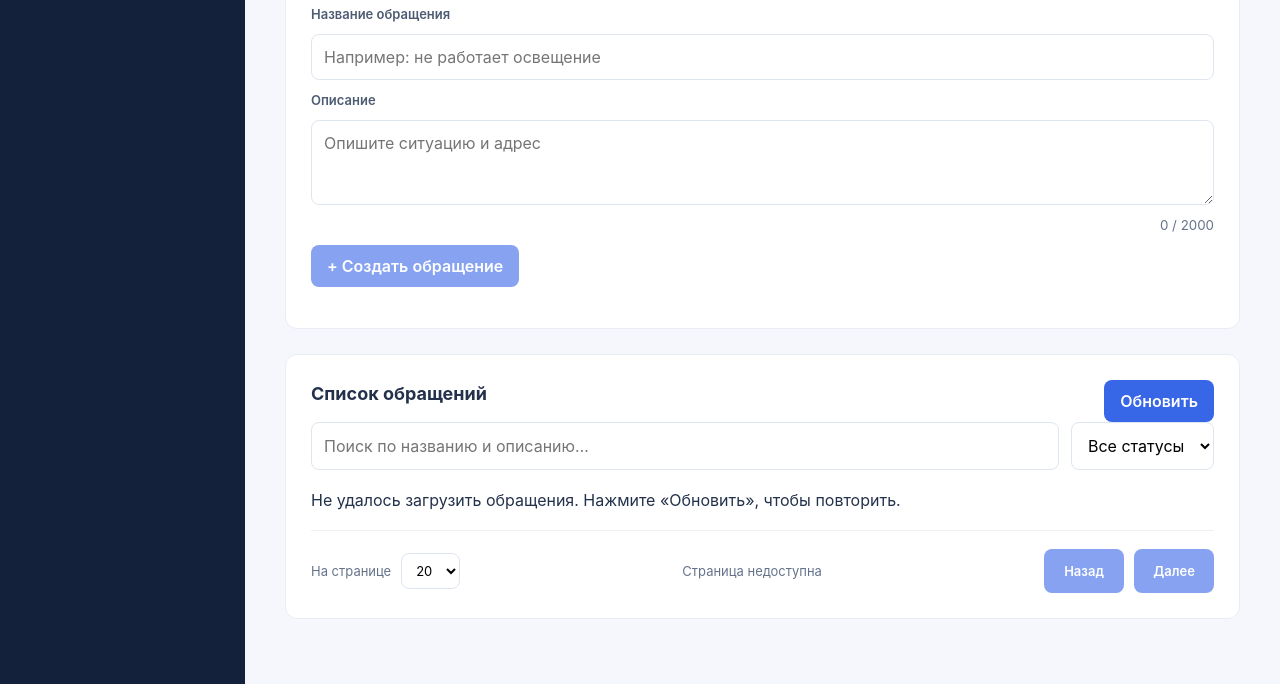
Test: offers retry after a failed initial load
The width and height of the screenshot is (1280, 684).
(page scrolled)
Expected: the button "+ Создать обращение" is disabled, [311,245,519,287]
Click the button "Обновить" at (1159, 401), box [1104,380,1214,422]
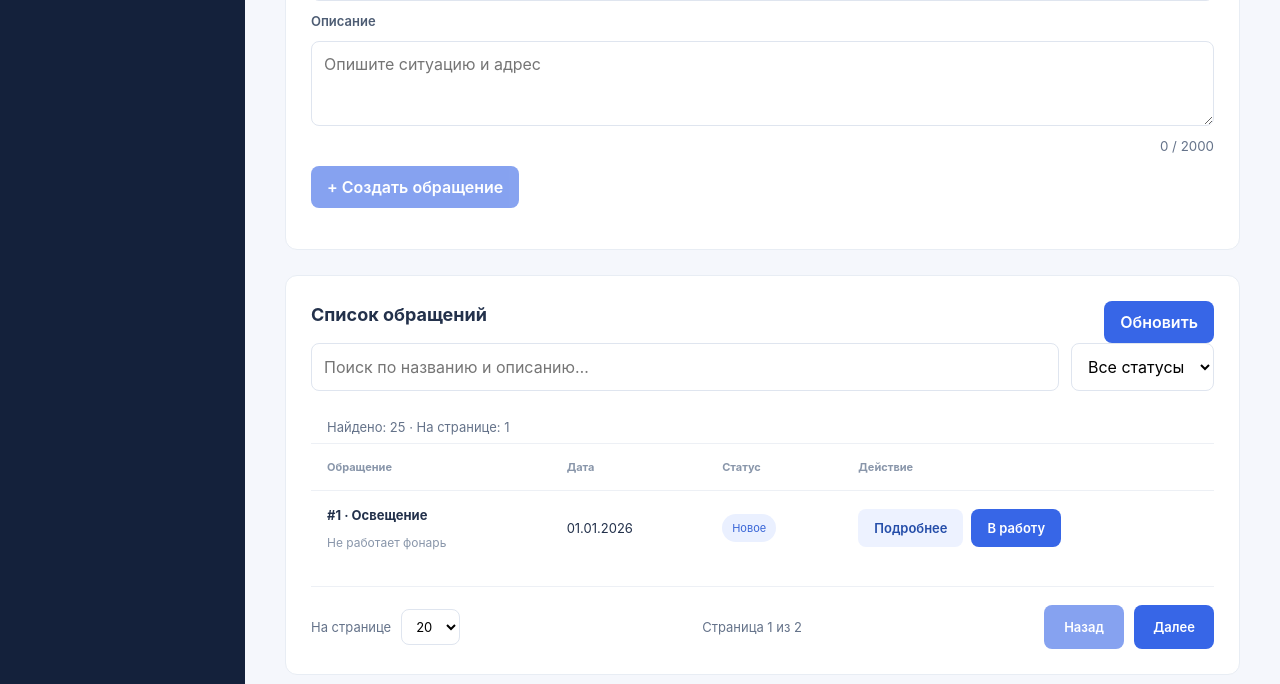
Expected: the text "Страница 1 из 2" is shown, [702,619,802,635]
